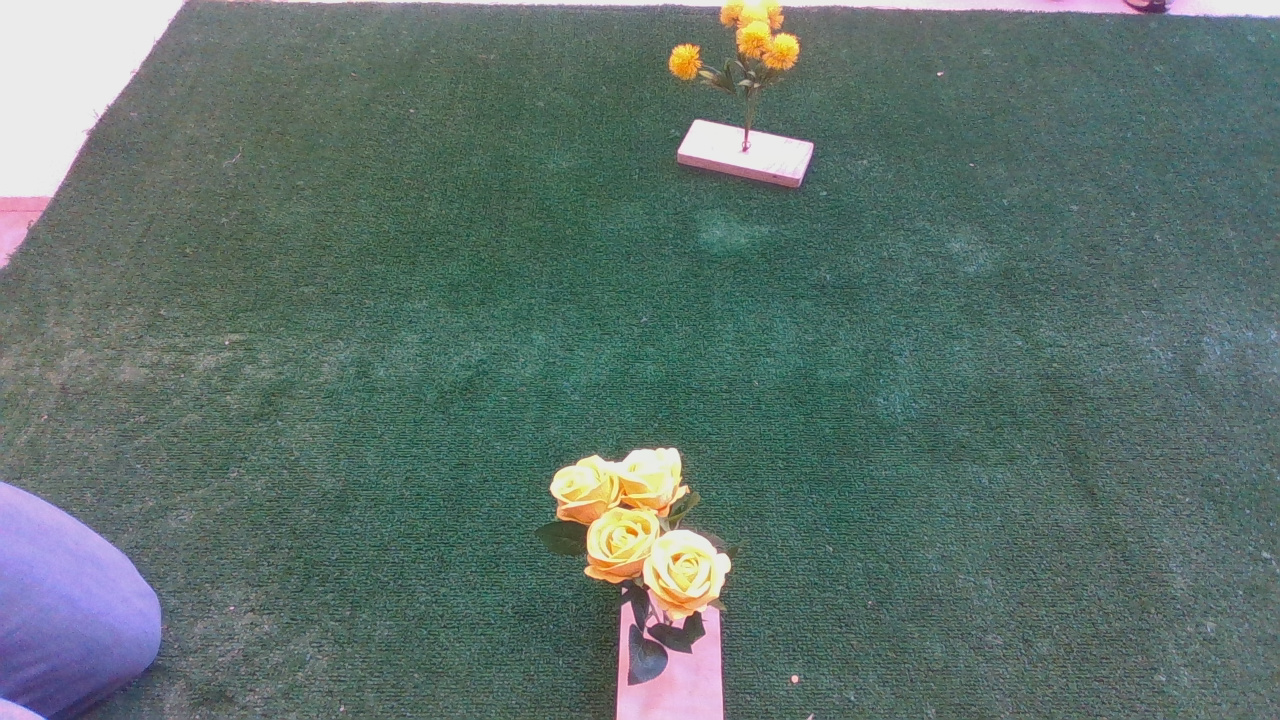dandelion: (654, 2, 812, 111)
rose: (524, 444, 765, 630)
